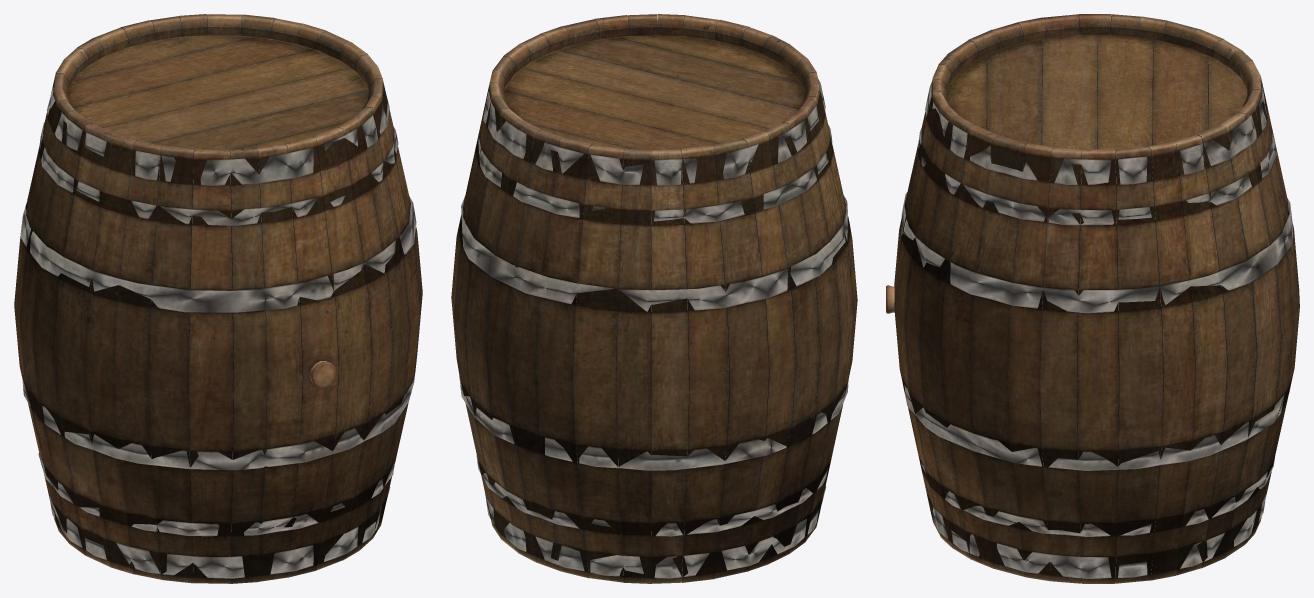
Rendered from barrel.glb.
The picture shows the model from 3 angles, left to right: view 1: azimuth 30°, elevation 25°; view 2: azimuth 150°, elevation 25°; view 3: azimuth 270°, elevation 25°; orthographic projection.
Parts seen in each view (by area): view 1: wine_barrel_01, wine_barrel_01_Lid, wine_barrel_01_bung; view 2: wine_barrel_01, wine_barrel_01_Lid; view 3: wine_barrel_01, wine_barrel_01_Lid.
Part boxes in pixels (x1=…): wine_barrel_01: x1=14, y1=14, x2=422, y2=583; wine_barrel_01_Lid: x1=67, y1=36, x2=368, y2=149; wine_barrel_01_bung: x1=310, y1=361, x2=336, y2=388; wine_barrel_01: x1=451, y1=14, x2=857, y2=583; wine_barrel_01_Lid: x1=503, y1=36, x2=805, y2=152; wine_barrel_01: x1=894, y1=14, x2=1299, y2=583; wine_barrel_01_Lid: x1=946, y1=35, x2=1247, y2=149.
Bounding box in the file's own units: 0.7419 × 0.8695 × 0.756.
Materials: 1 (1 with a texture image).
